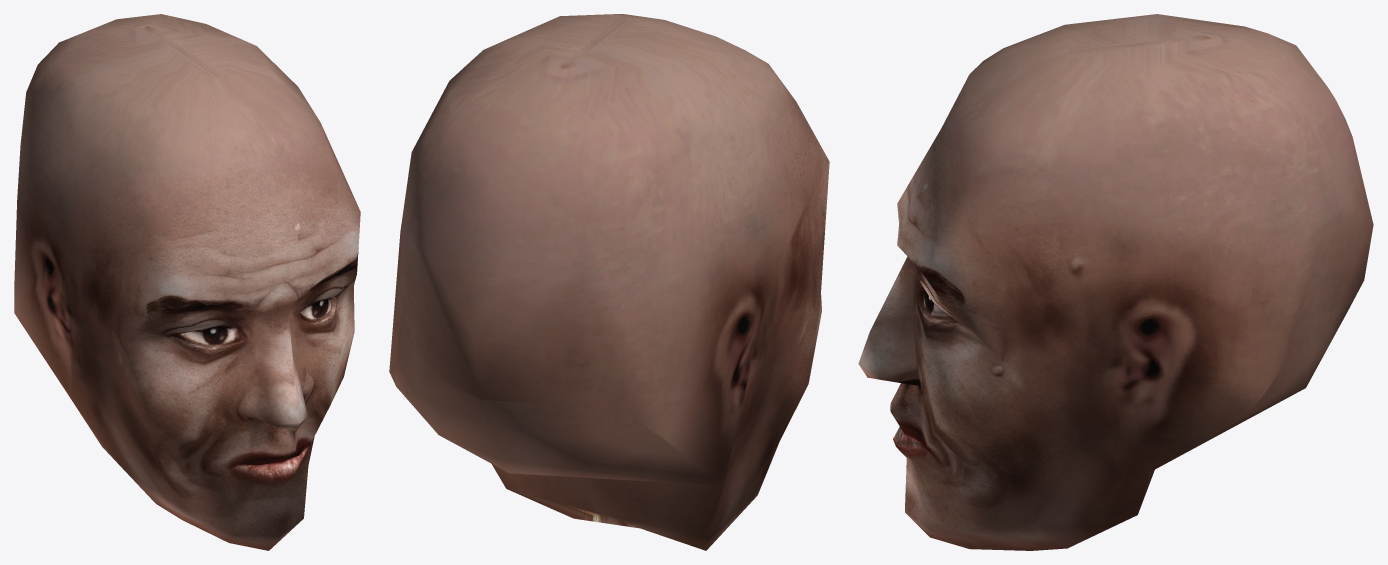
The model's file is b_n_imperial_m_head_03.glb.
3 views of the same model, side by side, from view 1: azimuth 30°, elevation 25°; view 2: azimuth 150°, elevation 25°; view 3: azimuth 270°, elevation 25° (orthographic). The views are drawn at different scales.
Parts seen in each view (by area): view 1: Tri B_N_Imperial_M_Head_03; view 2: Tri B_N_Imperial_M_Head_03; view 3: Tri B_N_Imperial_M_Head_03.
Part boxes in pixels (left/top/right/bottom): Tri B_N_Imperial_M_Head_03: left=14, top=14, right=360, bottom=550; Tri B_N_Imperial_M_Head_03: left=389, top=14, right=829, bottom=550; Tri B_N_Imperial_M_Head_03: left=858, top=14, right=1373, bottom=550.
Bounding box in the file's own units: 0.097 × 0.1593 × 0.1487.
Materials: 1 (1 with a texture image).
